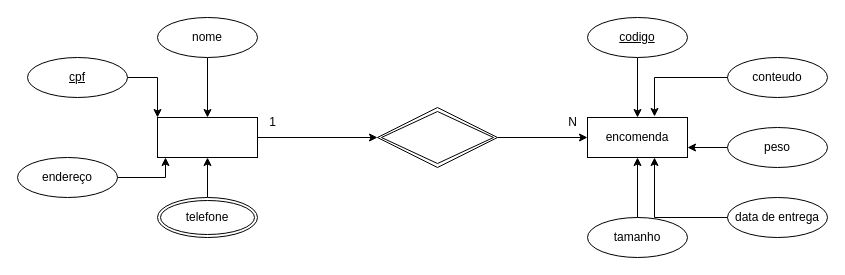
This 845x275 diagram has some shape labels left out. The centre of each missing label's shape, as x and y in pixels:
cliente: point (207, 137)
solicitar: point (437, 137)
